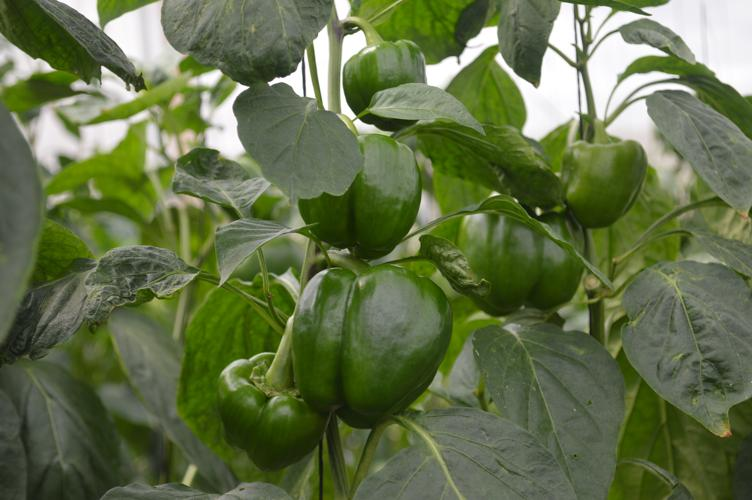BellPepper: (295, 265, 451, 429), (454, 208, 585, 313), (220, 354, 324, 469), (337, 41, 429, 130), (563, 140, 648, 231)
